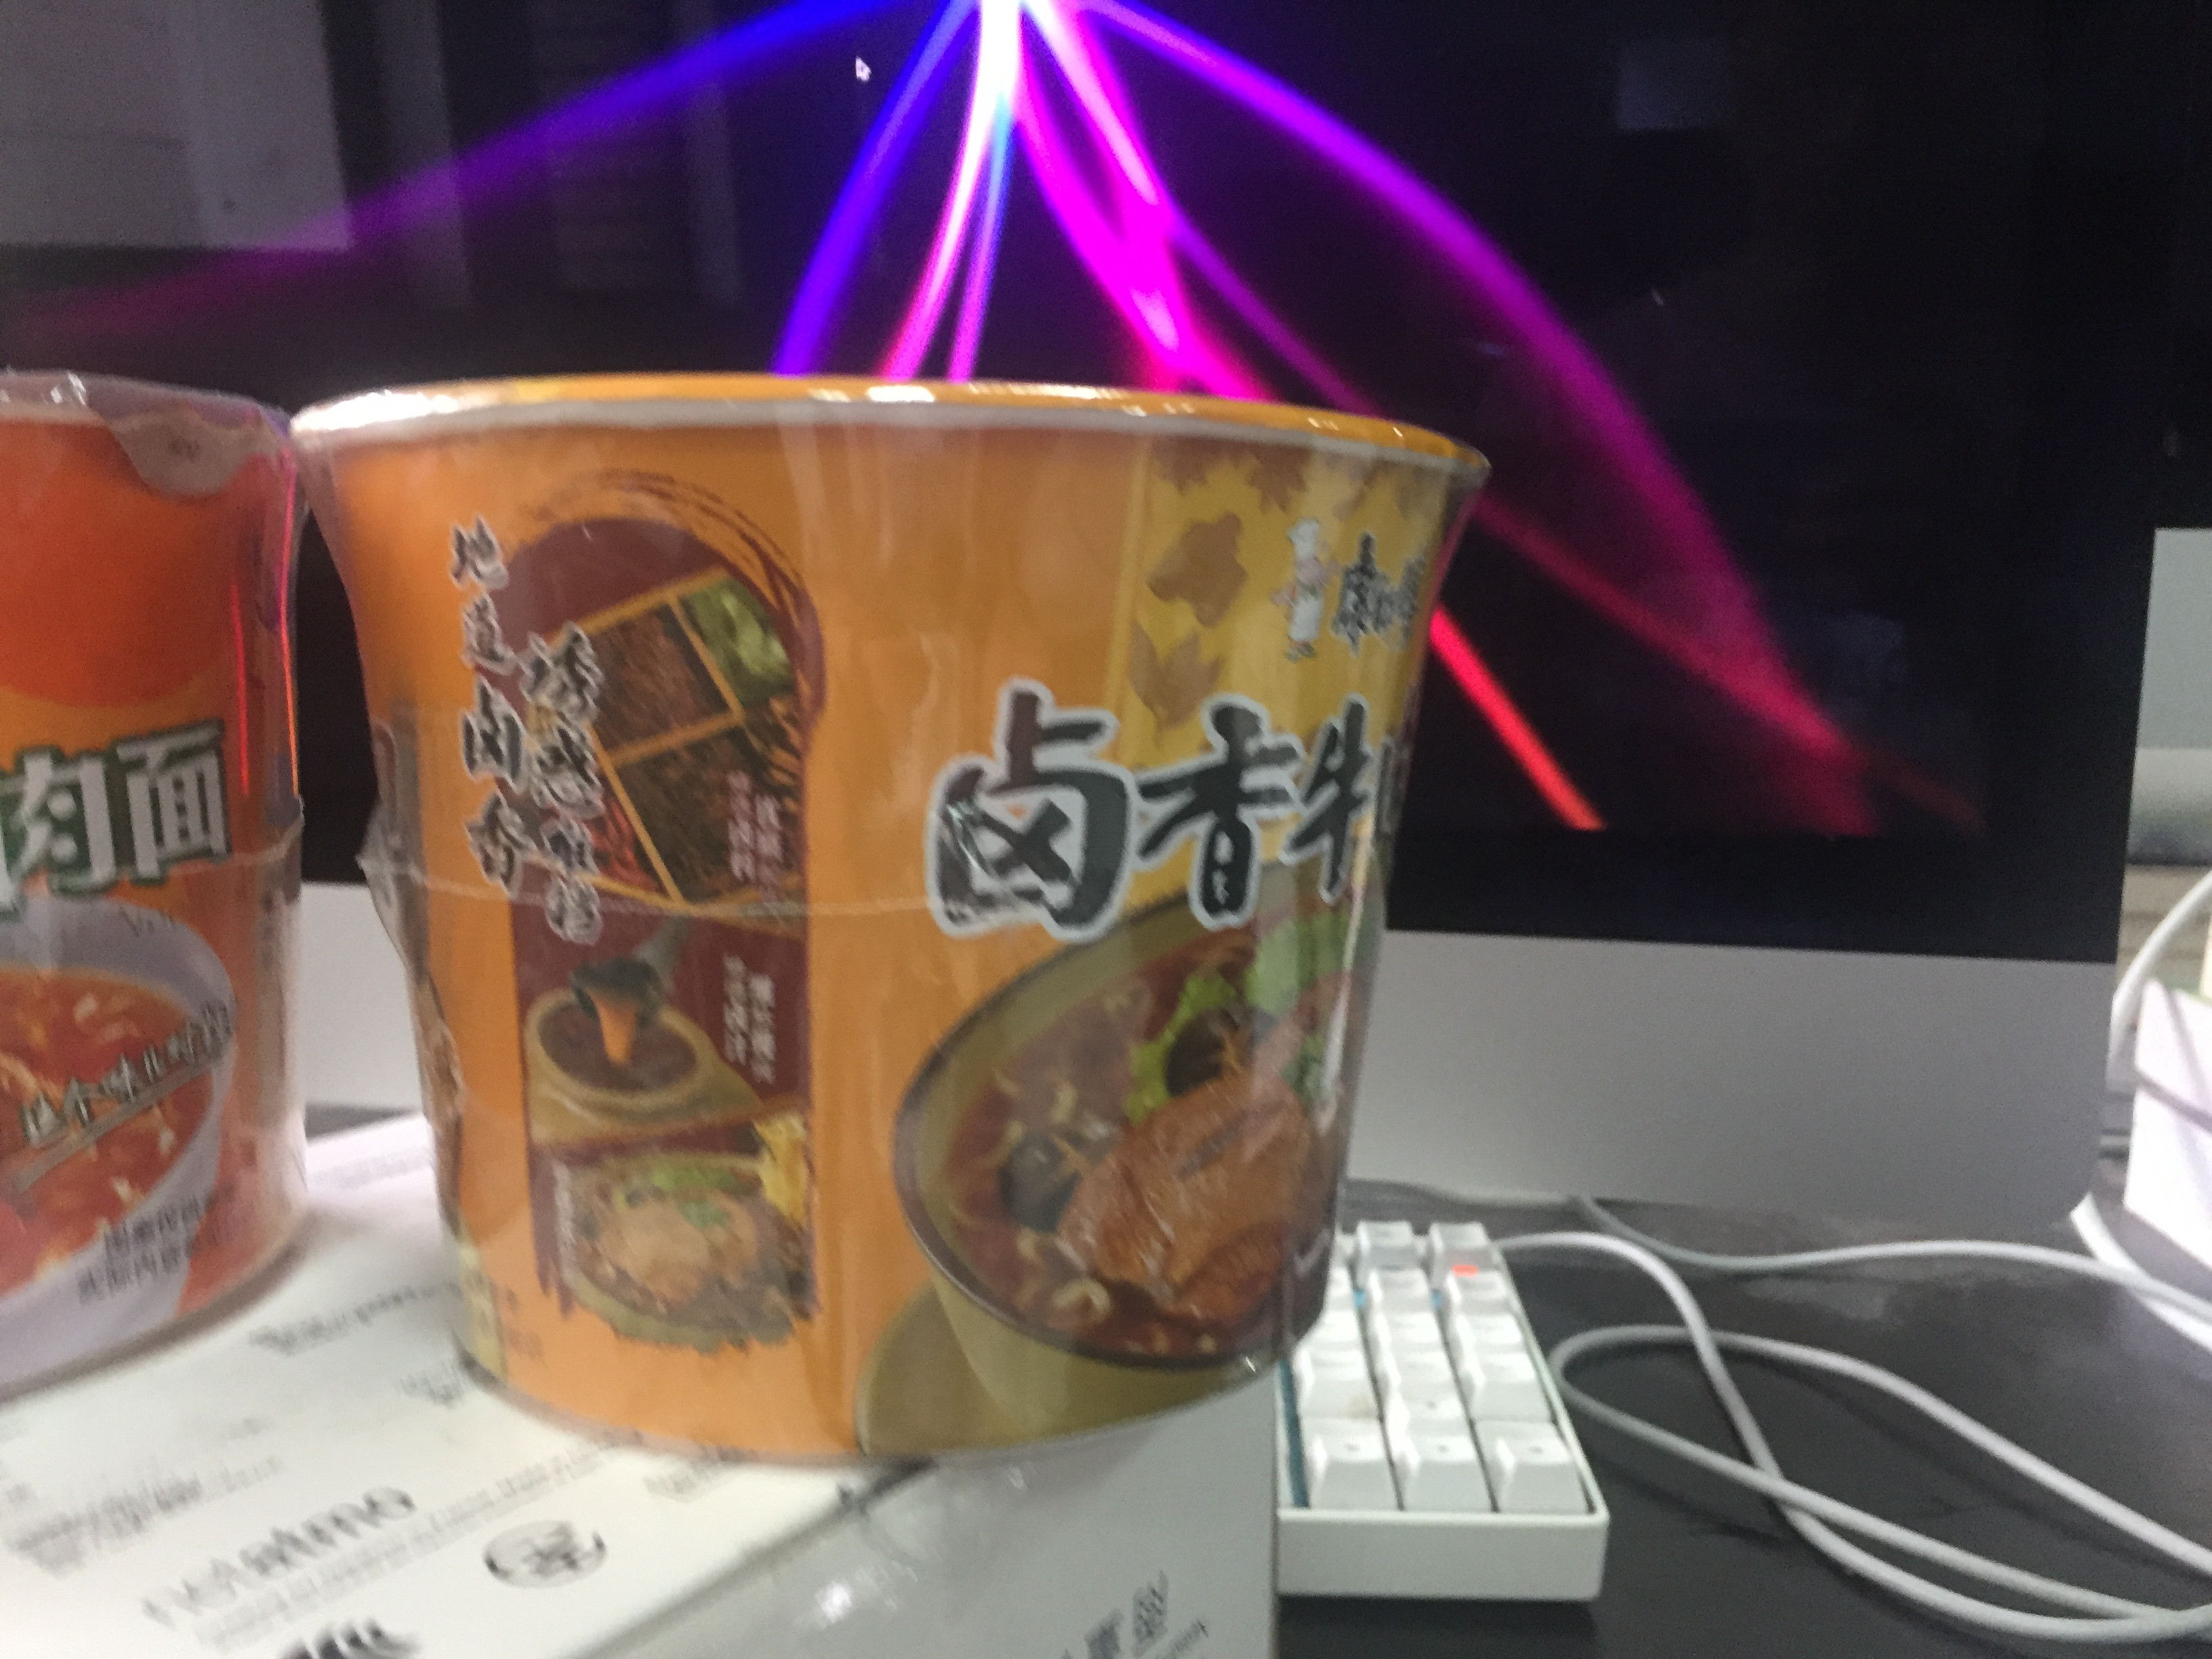luxiang: (286, 373, 1494, 1469)
